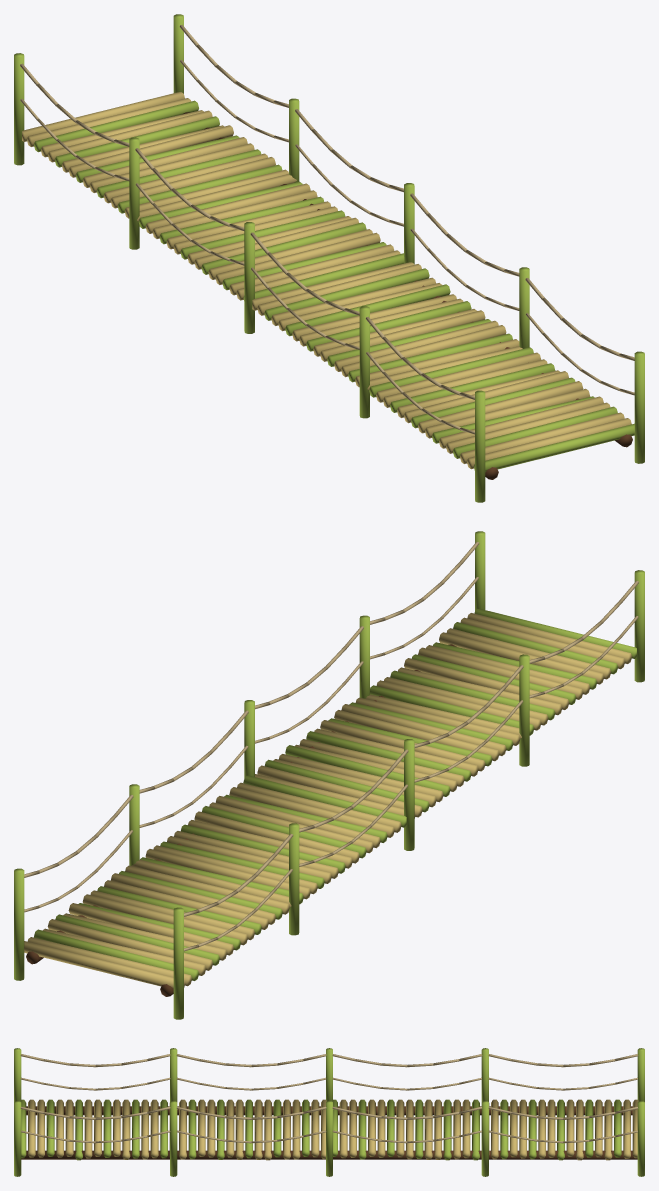
The model's file is prop_jembatan_bambu.glb.
3 renders of one model, top to bottom at view 1: azimuth 30°, elevation 25°; view 2: azimuth 150°, elevation 25°; view 3: azimuth 270°, elevation 25°, orthographic. The views are drawn at different scales.
Visible parts, largest first — view 1: jembatan_bambu; view 2: jembatan_bambu; view 3: jembatan_bambu.
Boxes of the visible parts, x1=… form: jembatan_bambu: x1=14, y1=14, x2=644, y2=502; jembatan_bambu: x1=14, y1=531, x2=644, y2=1019; jembatan_bambu: x1=14, y1=1048, x2=644, y2=1176.
Bounding box in the file's own units: 2.54 × 1.55 × 12.14.
